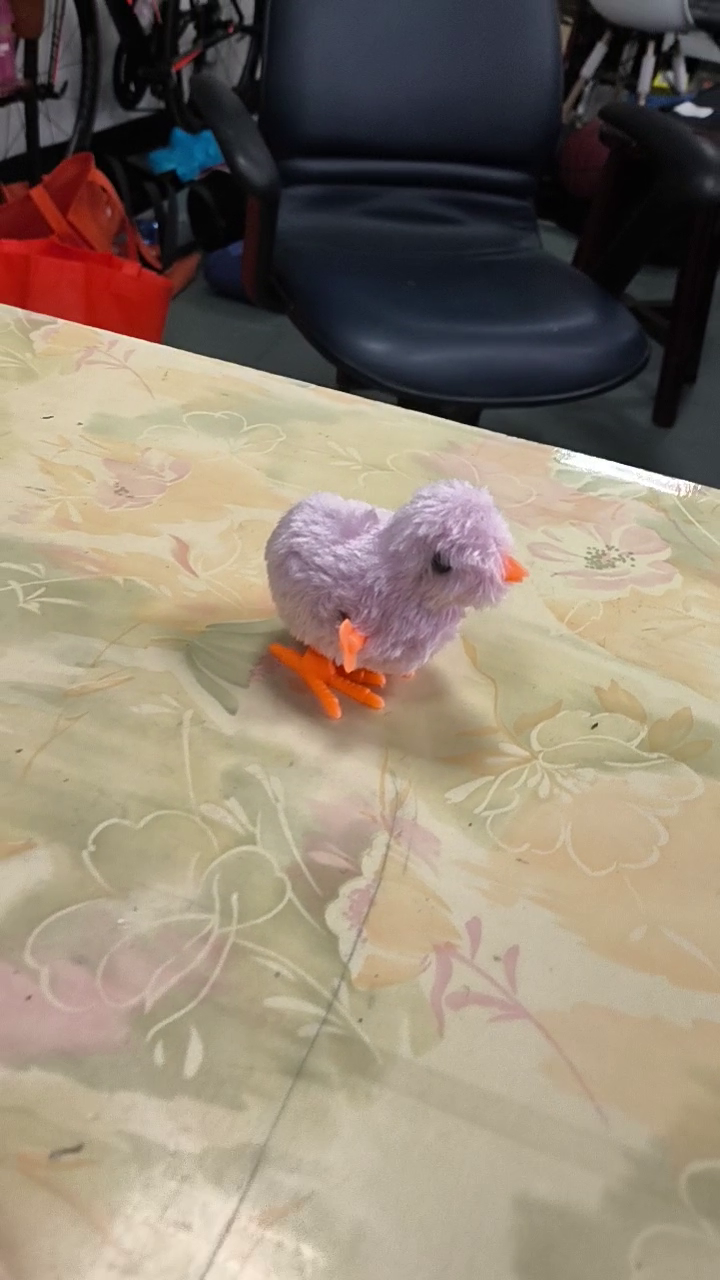pink chicken: (259, 475, 535, 723)
